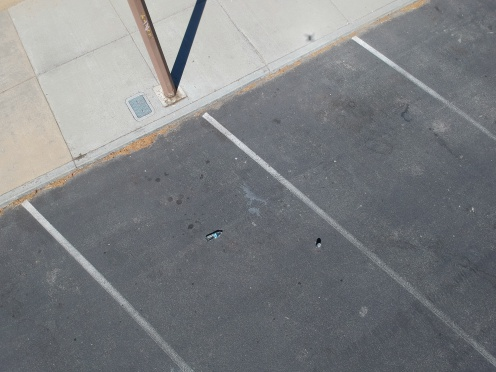bottle: (201, 226, 225, 243)
can: (314, 242, 323, 249)
